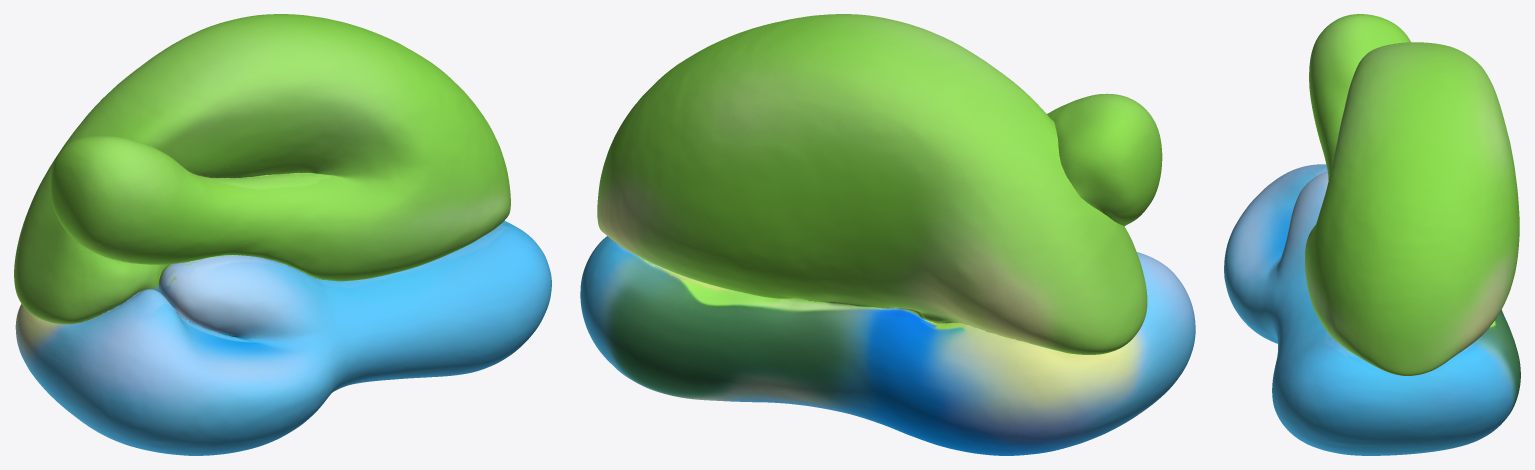
Rendered from base_basic_pbr.fbx.
3 views of the same model, side by side, from view 1: azimuth 30°, elevation 25°; view 2: azimuth 150°, elevation 25°; view 3: azimuth 270°, elevation 25° (orthographic). The views are drawn at different scales.
Visible parts, largest first — view 1: model; view 2: model; view 3: model.
Boxes of the visible parts, x1,y1,x2,y2 form: model: (14,14,551,455); model: (580,14,1195,455); model: (1224,14,1520,455).
Bounding box in the file's own units: 184 × 127 × 108.
1 material, 1 textured.
